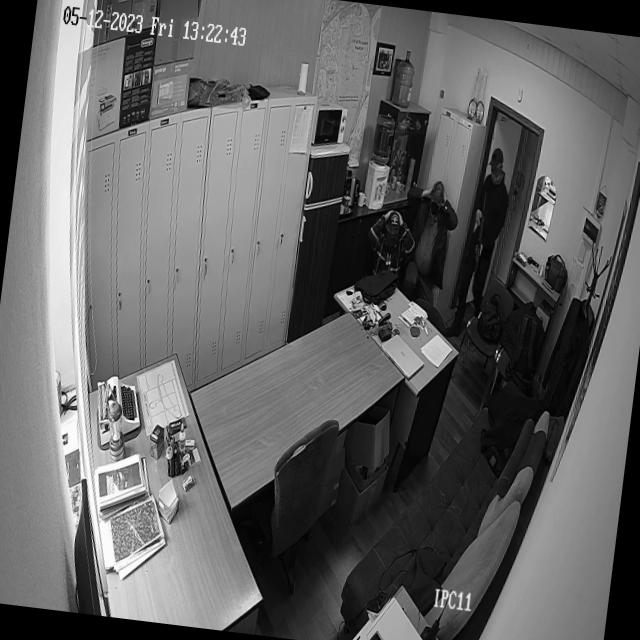gun: (466, 210, 490, 286)
person: (412, 182, 457, 248), (372, 212, 406, 258)
person with a gun: (448, 134, 520, 352)
